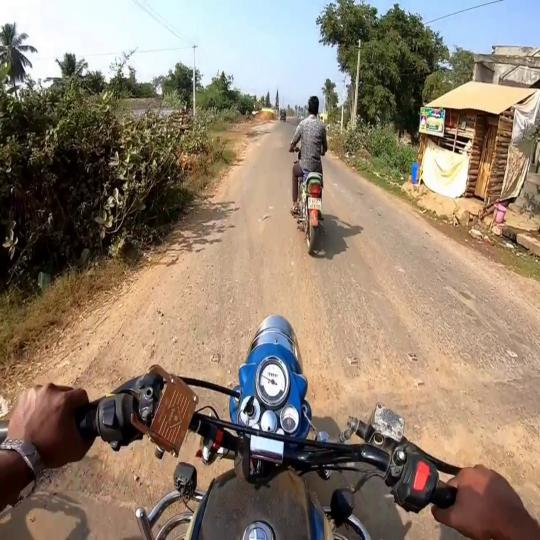Speed Bump: (352, 381, 540, 429), (7, 491, 136, 539)
